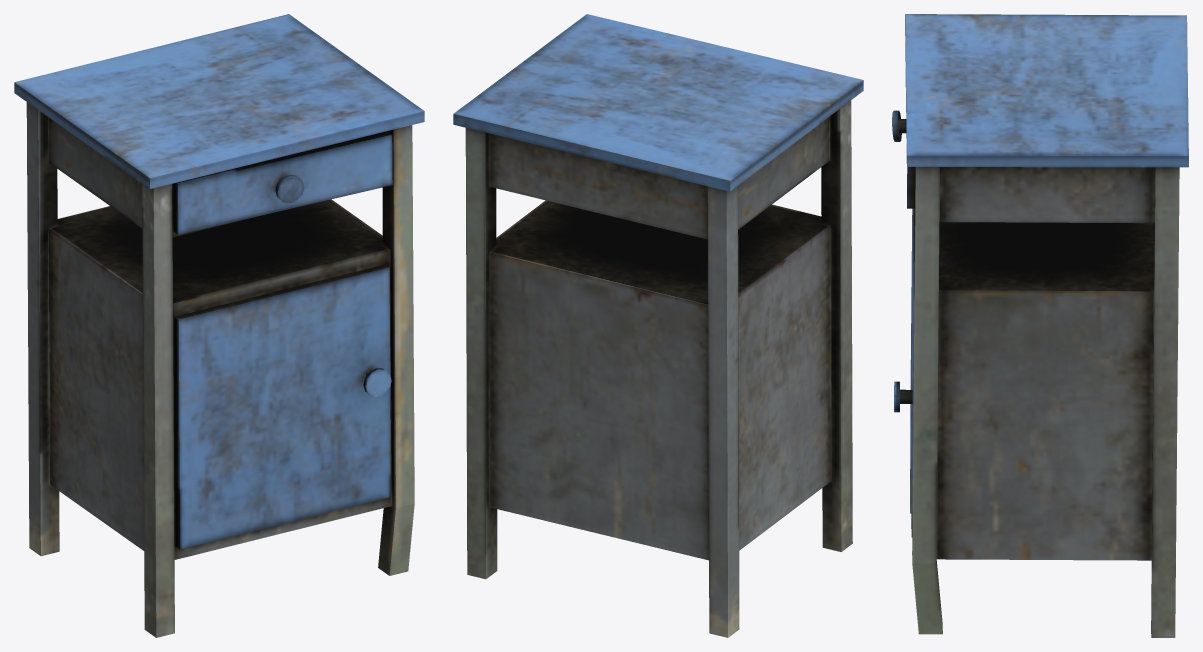
File: SideTable.FBX
The picture shows the model from 3 angles, left to right: view 1: azimuth 30°, elevation 25°; view 2: azimuth 150°, elevation 25°; view 3: azimuth 270°, elevation 25°; orthographic projection. The views are drawn at different scales.
Visible parts, largest first — view 1: SideTable; view 2: SideTable; view 3: SideTable.
Boxes of the visible parts, x1,y1,x2,y2 form: SideTable: (14,14,424,637); SideTable: (453,14,863,637); SideTable: (892,14,1188,637).
Size of the model in its own units: 53.52 by 85.98 by 47.42.
